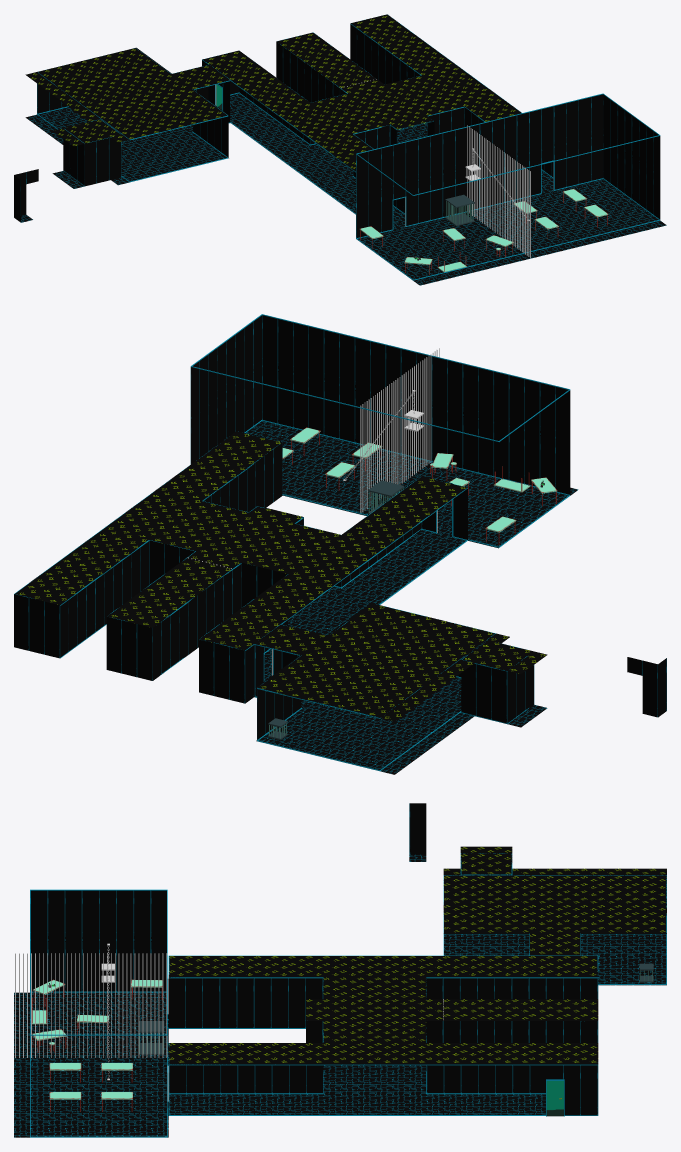
The model's file is house_floor2.glb.
3 renders of one model, top to bottom at view 1: azimuth 30°, elevation 25°; view 2: azimuth 150°, elevation 25°; view 3: azimuth 270°, elevation 25°, orthographic. The views are drawn at different scales.
Visible parts, largest first — view 1: wall_2, roof_2, floor_2, Board.002, Bars.005, Bars.002, Bars.001, Bars.004, medium_cage, Bars.003, Bars, wall_tile.004 (+2 smaller); view 2: wall_2, roof_2, floor_2, Board.002, Bars.003, Bars.004, Bars.001, Bars, wall_tile.005, wall_tile.007, wall_tile.006, Bars.005 (+2 smaller); view 3: roof_2, wall_2, floor_2, Board.002, Bars.003, Bars, wall_tile, medium_cage, Bars.004, Bars.005, Bars.001, Bars.002 (+1 smaller).
Part boxes in pixels (x1,y1,x2,y2): wall_2: (37,24,660,238); roof_2: (25,14,521,171); floor_2: (38,93,666,285); Board.002: (37,15,660,280); Bars.005: (510,157,530,214); Bars.002: (510,200,530,257); Bars.001: (488,185,509,240); Bars.004: (488,141,509,198); medium_cage: (445,194,474,226); Bars.003: (467,125,487,183); Bars: (467,169,487,226); wall_tile.004: (97,138,109,183); wall_2: (14,315,570,740); roof_2: (15,431,547,721); floor_2: (245,421,578,769); Board.002: (14,314,570,771); Bars.003: (360,387,386,459); Bars.004: (387,367,412,440); Bars.001: (387,428,412,484); Bars: (360,441,386,512); wall_tile.005: (642,660,657,717); wall_tile.007: (492,668,507,723); wall_tile.006: (476,664,491,719); Bars.005: (414,348,439,420); roof_2: (168,846,666,1064); wall_2: (30,890,598,1115); floor_2: (14,934,666,1137); Board.002: (30,853,666,1137); Bars.003: (118,953,167,1005); Bars: (118,1006,167,1057); wall_tile: (409,803,426,854); medium_cage: (139,1021,164,1054); Bars.004: (67,953,115,1005); Bars.005: (15,953,63,1005); Bars.001: (67,1006,115,1057); Bars.002: (15,1006,63,1057).
Size of what is drawn, in the model's own units: 39 by 6.7 by 38.
Materials: 21 (21 with a texture image).
